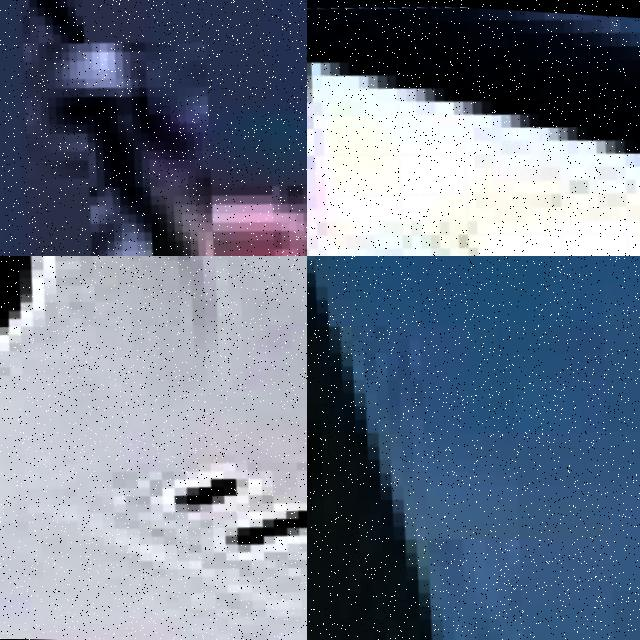drone: (307, 256, 640, 640), (0, 256, 307, 640), (307, 0, 640, 256), (0, 0, 307, 256)
